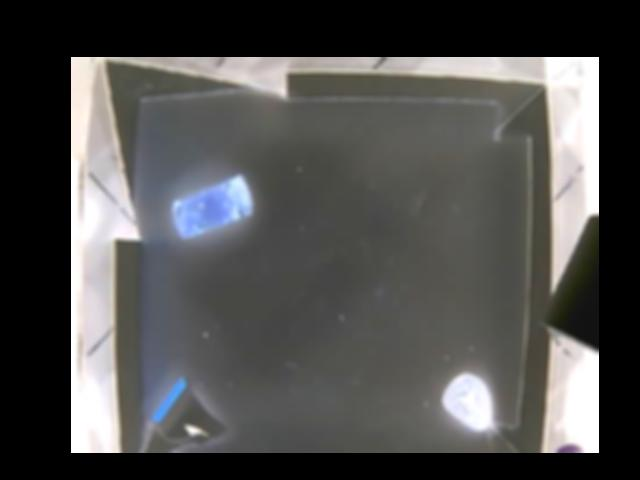China: (134, 374, 229, 453)
Pebble: (441, 372, 495, 429)
Potato: (167, 174, 255, 239)
